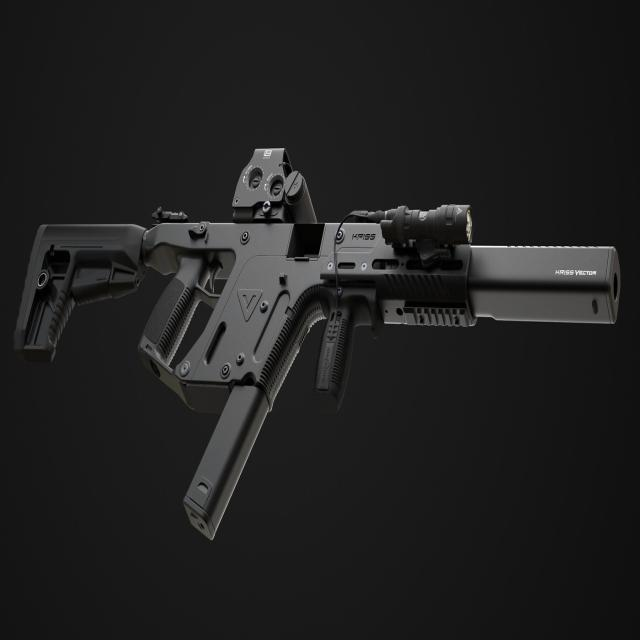SMG: (13, 148, 621, 545)
